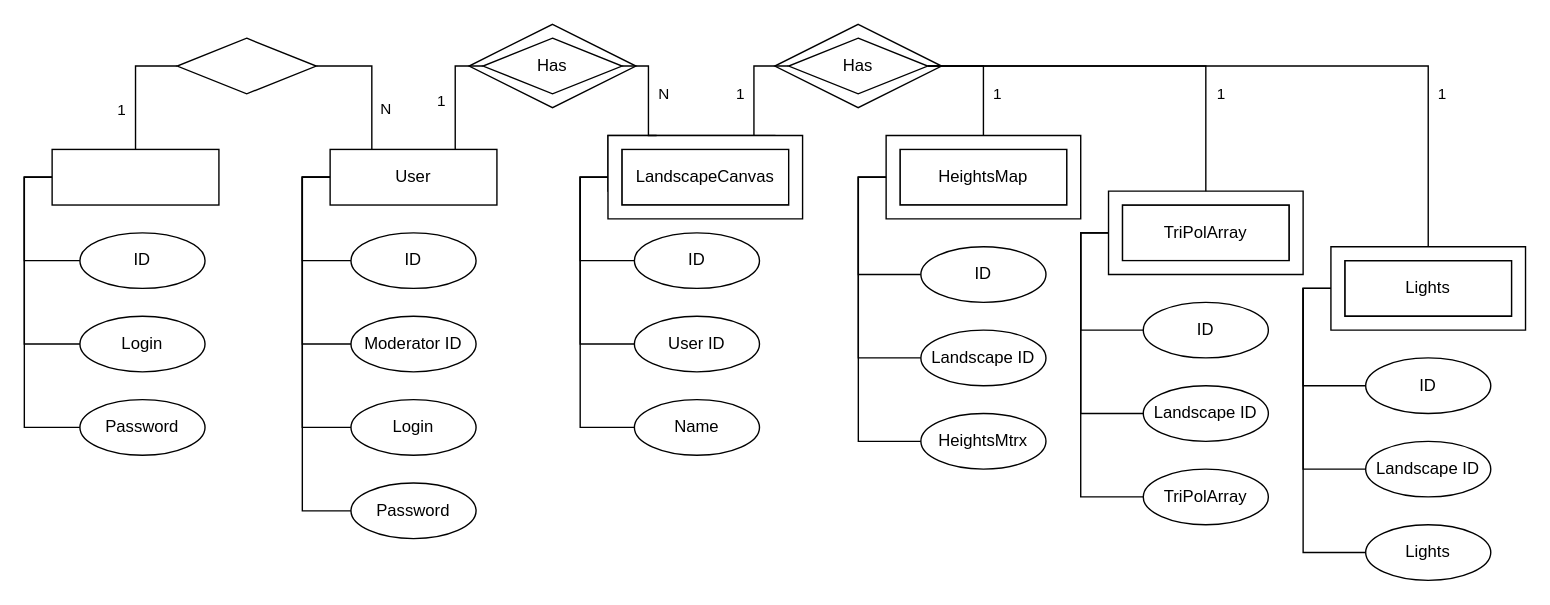
The diagram is 1550 pixels wide and 605 high, and some of its shapes have lost their labels. The centre of each missing label's shape, as x and y in pixels:
"Controls" belongs at (x=246, y=65).
"Moderator" belongs at (x=135, y=176).
